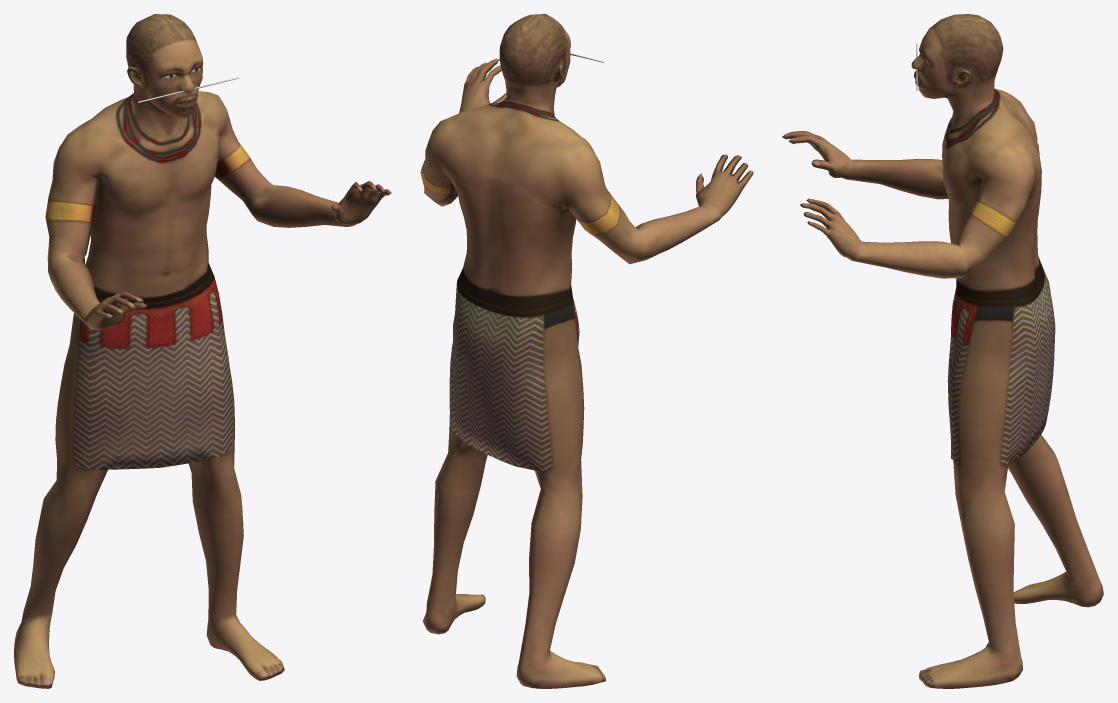
Rendered from Villager.glb.
3 views of the same model, side by side, from view 1: azimuth 30°, elevation 25°; view 2: azimuth 150°, elevation 25°; view 3: azimuth 270°, elevation 25° (orthographic). The views are drawn at different scales.
Parts seen in each view (by area): view 1: Villager_v1_low; view 2: Villager_v1_low; view 3: Villager_v1_low.
Part boxes in pixels (x1,y1,x2,y2): Villager_v1_low: [14, 14, 391, 688]; Villager_v1_low: [420, 14, 753, 688]; Villager_v1_low: [782, 14, 1103, 688].
Bounding box in the file's own units: 0.2609 × 0.5644 × 0.2627.
1 material, 1 textured.
